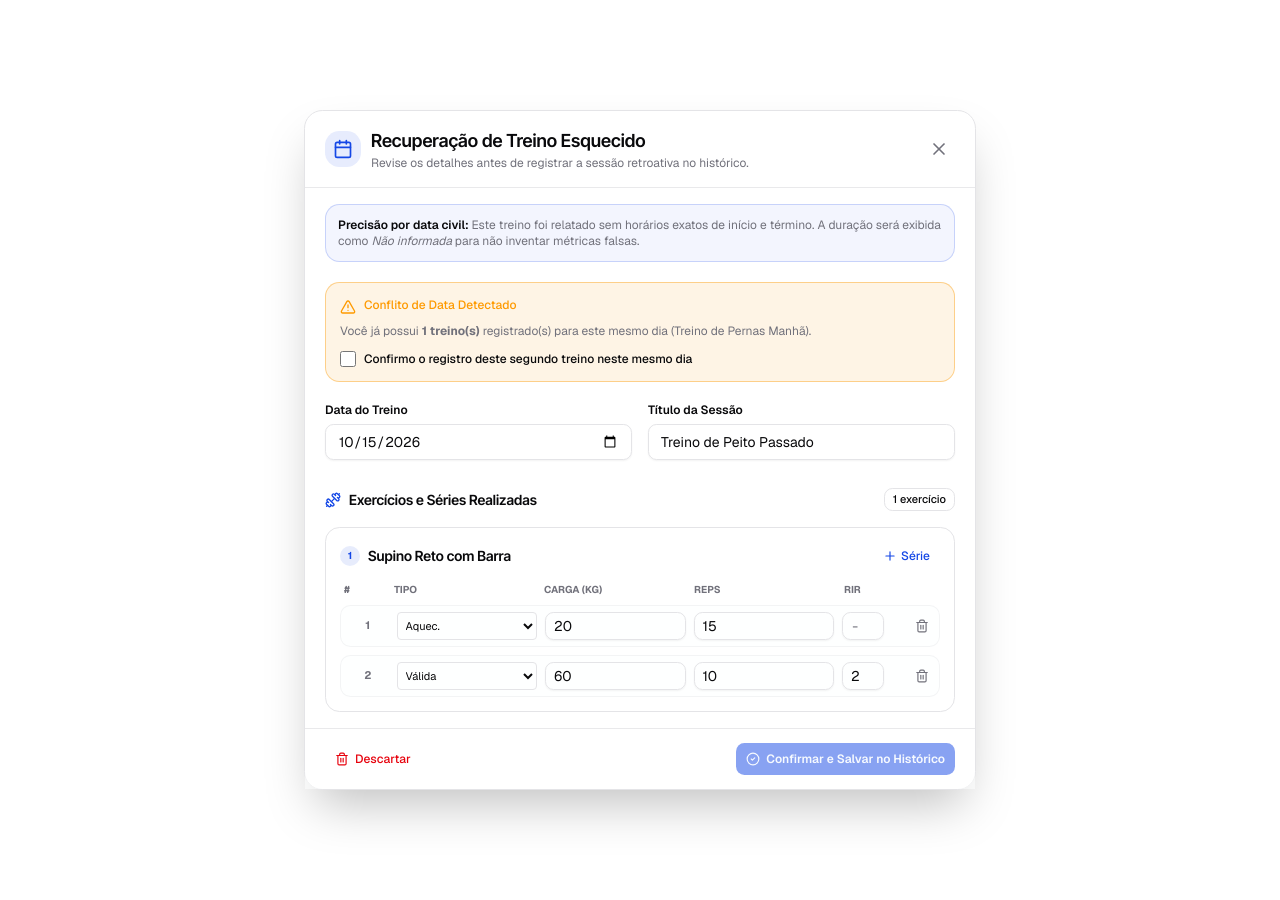
Task 6.5B — Forgotten Workout Recovery (Frontend) › 1. ForgottenWorkoutRecoveryModal › detecta conflito e exige checkbox para confirmar
Expected: the text "Conflito de Data Detectado" is shown, left=364, top=297, right=516, bottom=313
Expected: the text "Treino de Pernas Manhã" is shown, left=674, top=323, right=806, bottom=339
# Marca o checkbox
What coordinates should you click on to do the following:
click the checkbox
I would click on:
 (348, 359)
Its box is left=340, top=351, right=356, bottom=367.
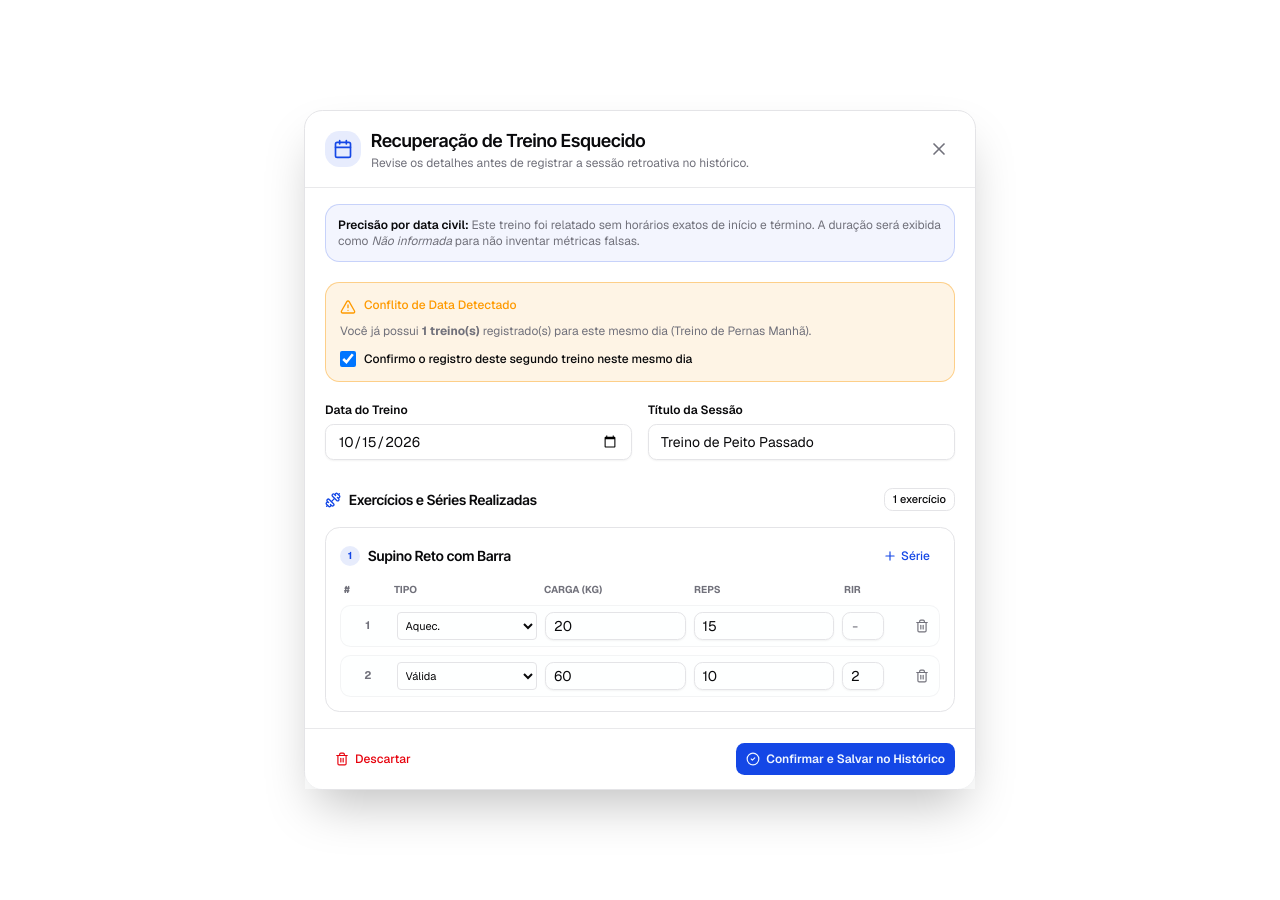
Now the button "Confirmar e Salvar no Histórico" is enabled, box left=736, top=743, right=955, bottom=775
